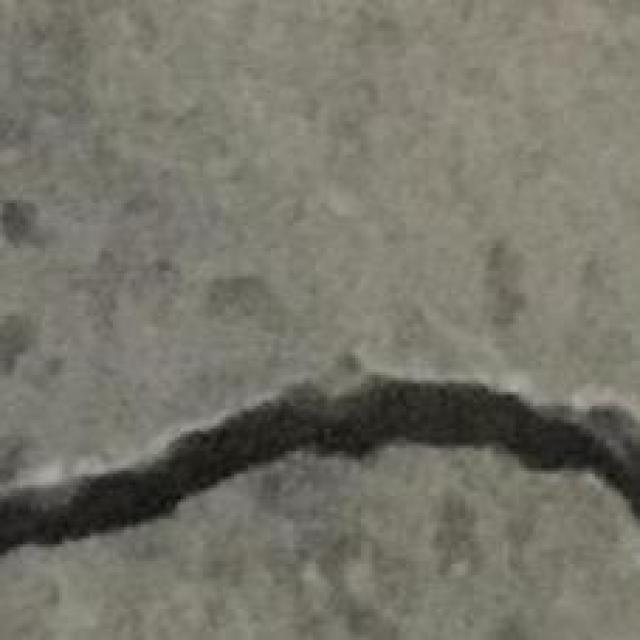Crack: (0, 365, 640, 560)
